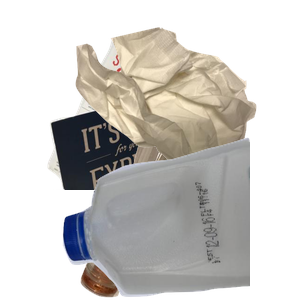glass: (78, 128, 298, 300)
paper: (45, 34, 230, 214)
plastic: (60, 135, 300, 300)
trash: (73, 25, 300, 183)
